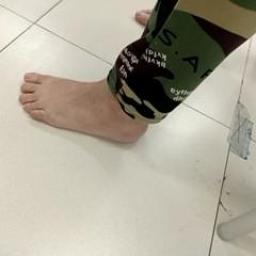Lateral View -Left Foot-: (6, 47, 170, 167)
